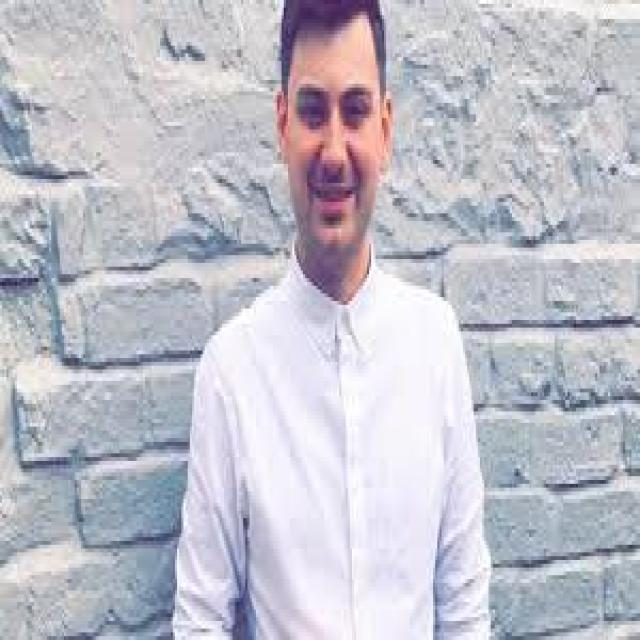person-without-mask: (156, 4, 555, 640)
